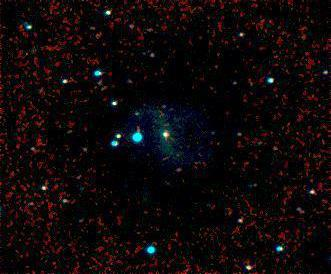star: (143, 119, 173, 149)
